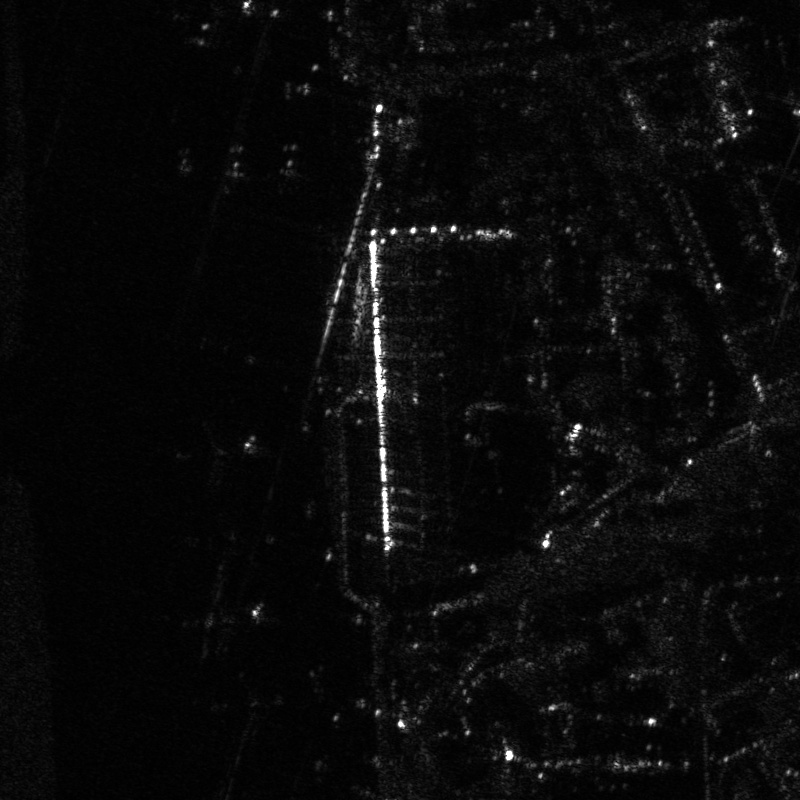A220: (165, 568, 275, 662), (165, 421, 264, 486)
ARJ21: (213, 669, 290, 743)
other: (267, 143, 311, 197), (219, 146, 255, 195)
